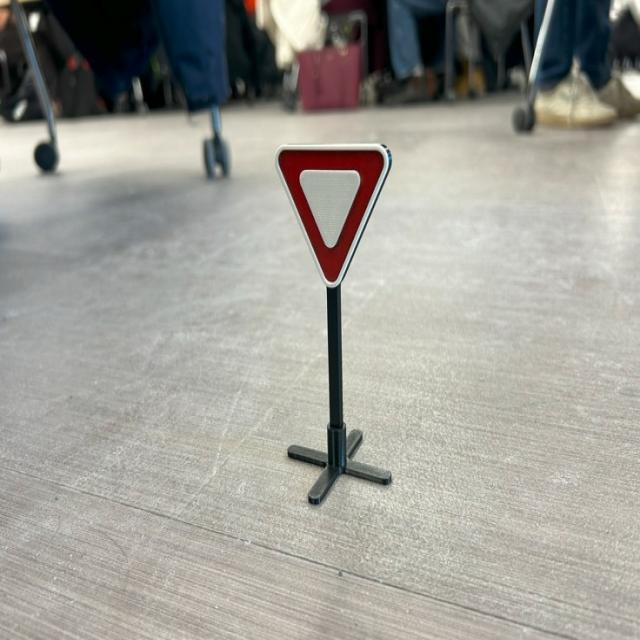sign_yield: (255, 121, 411, 305)
